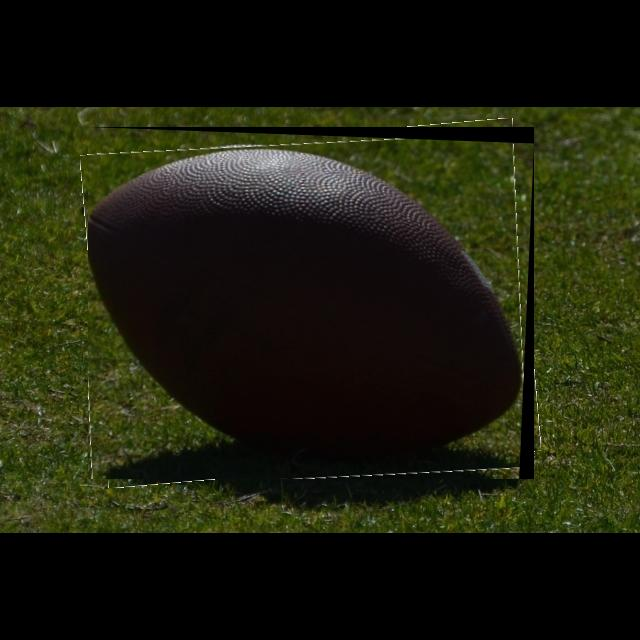Football: (88, 127, 534, 479)
